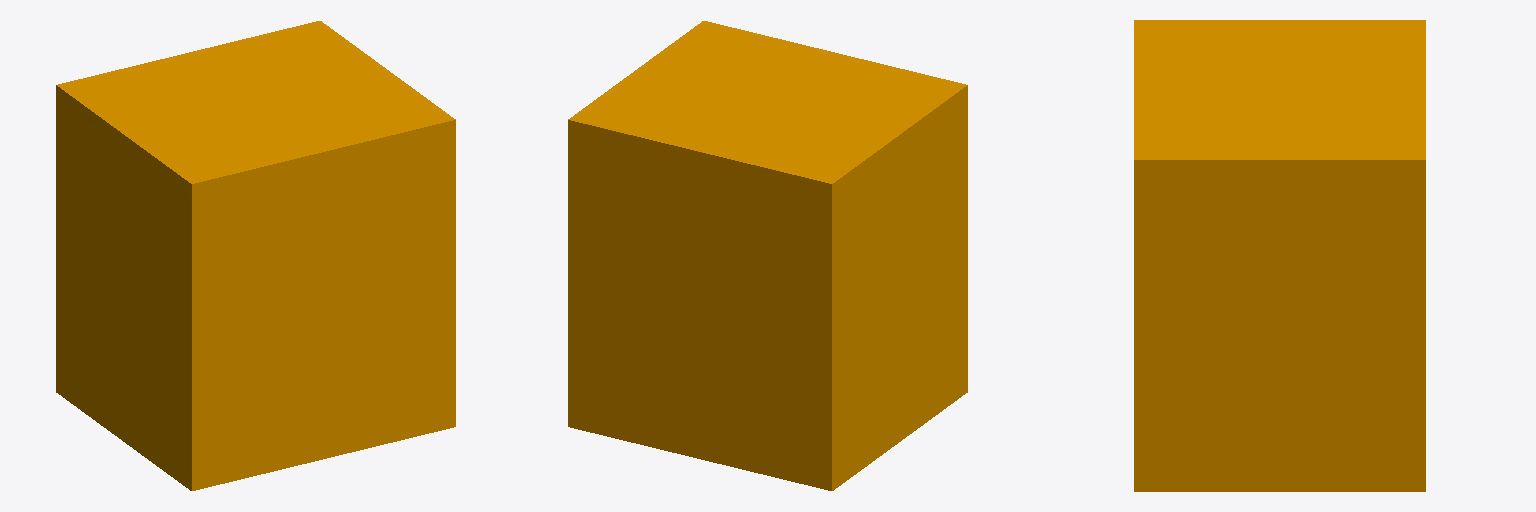
The robot description file, URDF, robot "object":
<robot name="object">
  <link name="object">
    <visual>
      <origin xyz="0 0 0" />
      <geometry>
        <box size="0.07200000000000001 0.064 0.08" />
      </geometry>
    </visual>

    <collision>
      <origin xyz="0 0 0" />
      <geometry>
        <box size="0.07200000000000001 0.064 0.08" />
      </geometry>
    </collision>

    <inertial>
      <mass value="0.05" />
      <inertia ixx="0.0001" ixy="0.0" ixz="0.0" iyy="0.0001" iyz="0.0" izz="0.0001" />
    </inertial>
  </link>
</robot>

--- Render facts (derived) ---
The picture shows the robot from 3 angles, left to right: view 1: azimuth 30°, elevation 25°; view 2: azimuth 150°, elevation 25°; view 3: azimuth 270°, elevation 25°; orthographic projection.
Model object with 1 links and 0 joints (none), rooted at object, posed all joints at 0.
Links seen in each view (by area): view 1: object; view 2: object; view 3: object.
Boxes of the visible links, x1,y1,x2,y2 form: object: (56,21,455,490); object: (568,21,967,490); object: (1134,20,1425,491).
Bounding box of the posed robot: 0.072 × 0.064 × 0.08 m (x, y, z).
Geometry: primitives only (box / cylinder / sphere), no mesh files.